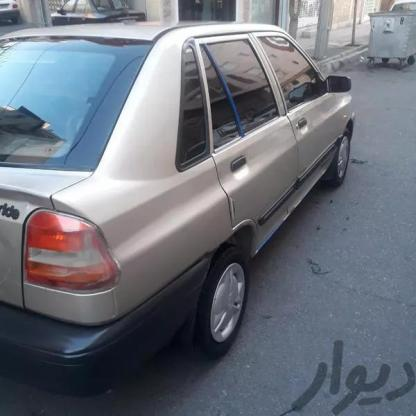Car: (0, 13, 355, 380)
